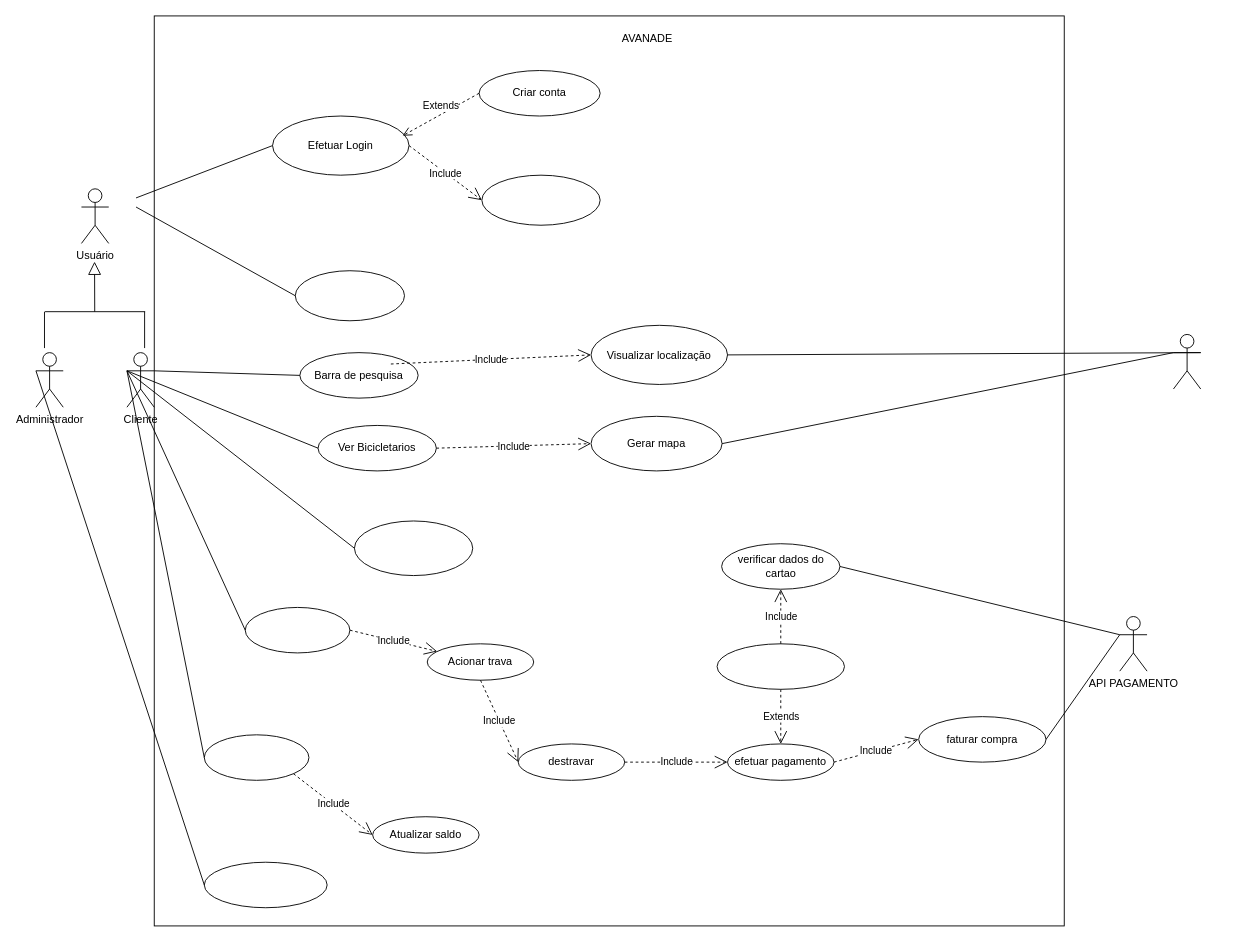
This 1237x942 diagram has some shape labels left out. The shapes that lost their labels are listed below. From the top down, each one's centre as x and y in pixels, then its label:
the point at 540,199: Verificar Senha
the point at 349,295: Deslogar
the point at 1187,361: API GOOGLE
the point at 413,548: Listar informações do bicicletario
the point at 297,630: Fazer reserva
the point at 780,666: preencher dados do cartao
the point at 256,757: Trocar pontos
the point at 265,884: Visualizar Dashboard
